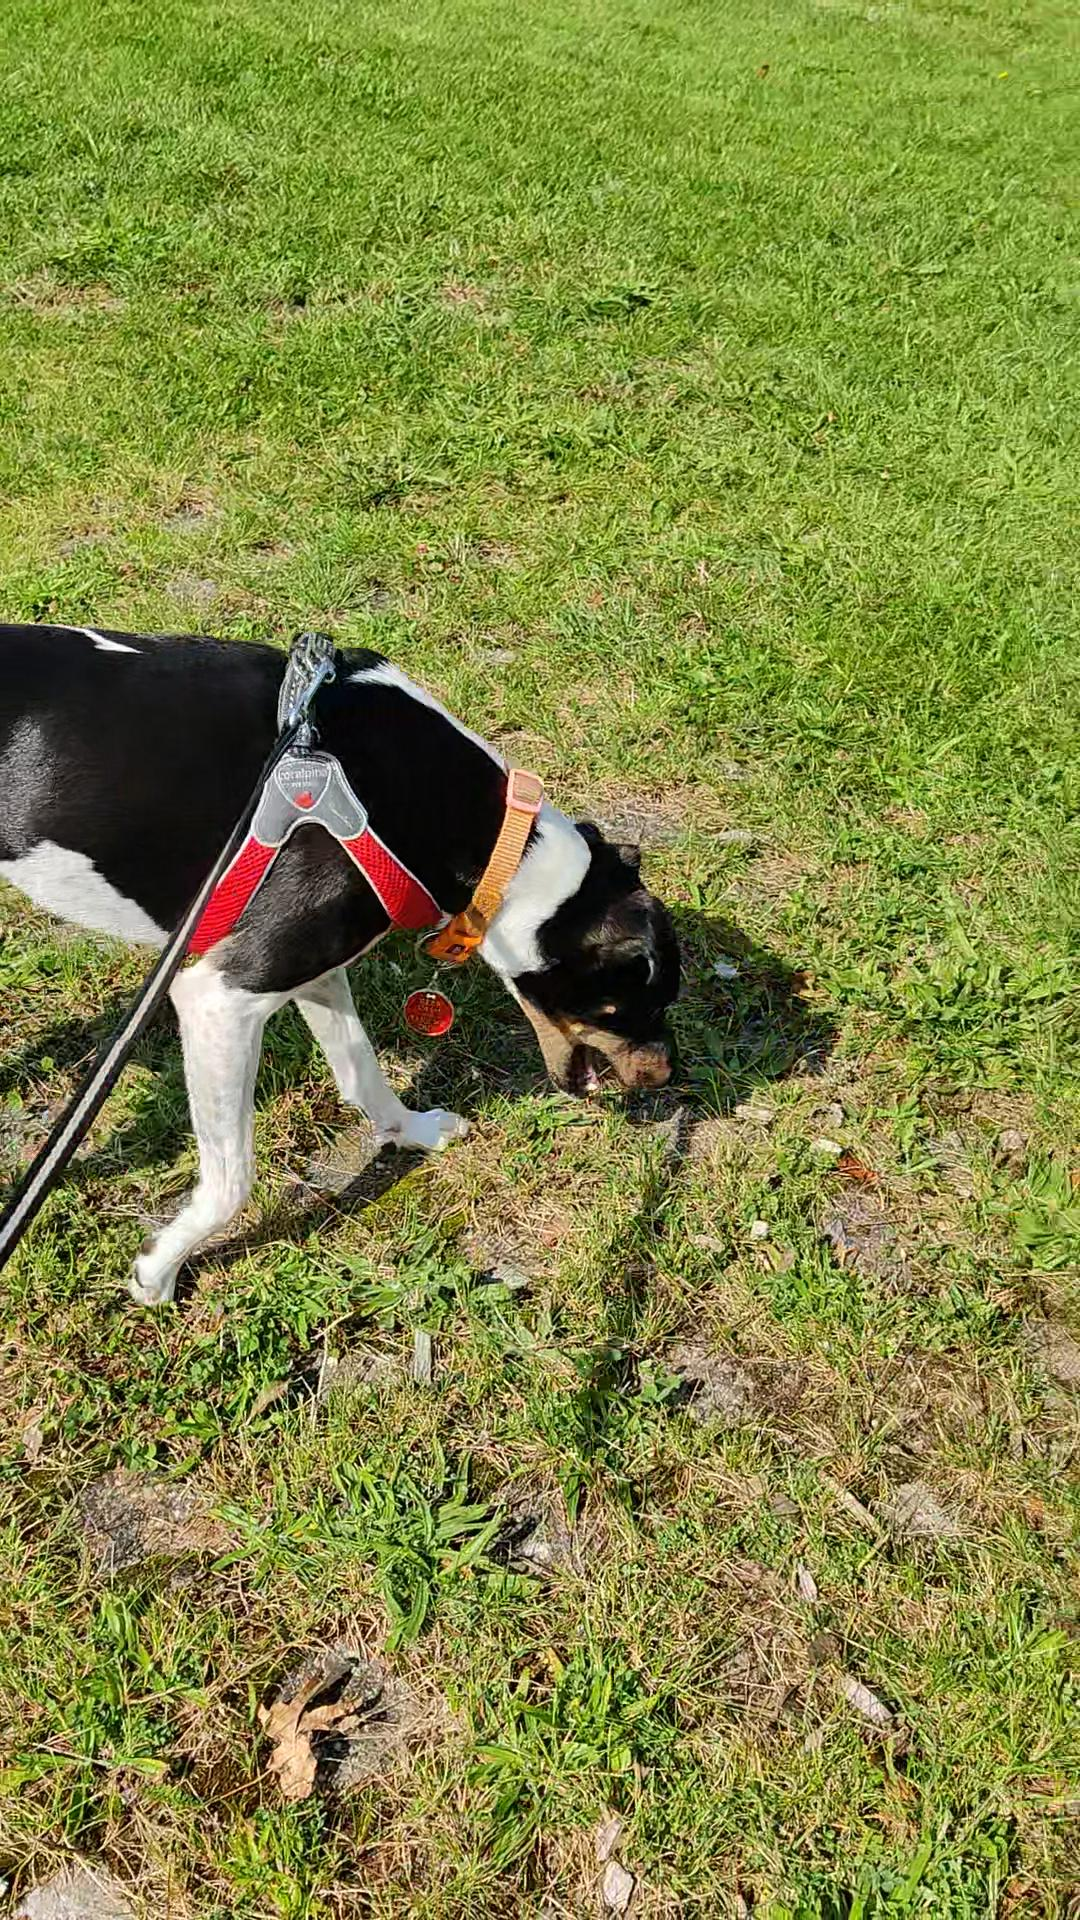Dog: (0, 607, 700, 1320)
